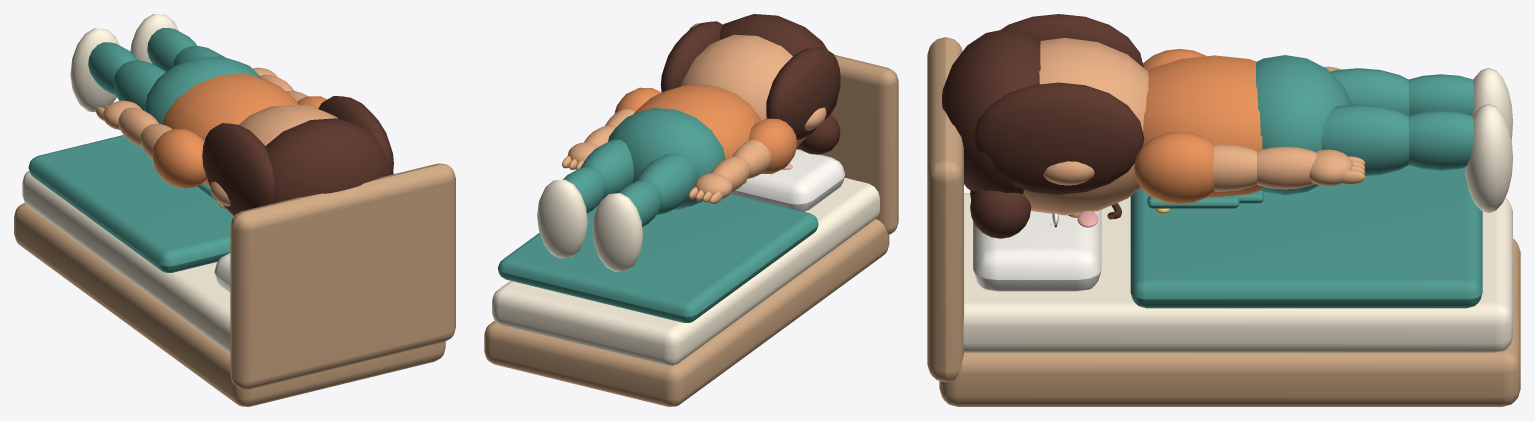
File: ava-need-tired.glb
3 views of the same model, side by side, from view 1: azimuth 30°, elevation 25°; view 2: azimuth 150°, elevation 25°; view 3: azimuth 270°, elevation 25° (orthographic). The views are drawn at different scales.
Visible parts, largest first — view 1: headboard, quilt, bed base, soft mattress, hair cap, soft shirt, bob hair, overalls, shirt sleeve, little shoe, clay head, trouser leg (+9 smaller); view 2: quilt, bed base, soft mattress, headboard, clay head, overalls, bob hair, soft shirt, pillow, little shoe, little shoe.001, hair cap (+13 smaller); view 3: quilt, soft mattress, bed base, bob hair.001, headboard, soft shirt, pillow, hair cap, clay head, overalls, shirt sleeve.001, trouser leg.001 (+13 smaller).
Boxes of the visible parts, x1,y1,x2,y2 form: headboard: (230,163,455,389); quilt: (28,135,233,272); bed base: (14,202,445,406); soft mattress: (22,170,230,353); hair cap: (258,118,393,207); soft shirt: (162,73,298,185); bob hair: (202,123,274,215); overalls: (144,56,261,124); shirt sleeve: (152,129,206,188); little shoe: (70,28,119,112); clay head: (239,104,337,145); trouser leg: (113,60,165,110); quilt: (497,194,818,322); bed base: (484,219,889,406); soft mattress: (492,177,879,365); headboard: (690,23,898,234); clay head: (681,34,806,147); overalls: (608,108,725,209); bob hair: (766,47,840,139); soft shirt: (633,84,761,158); pillow: (730,149,844,211); little shoe: (592,193,643,271); little shoe.001: (537,179,587,258); hair cap: (719,14,840,119); quilt: (1130,165,1482,308); soft mattress: (963,193,1512,352); bed base: (939,239,1520,406); bob hair.001: (974,82,1144,194); headboard: (927,37,963,382); soft shirt: (1142,55,1262,197); pillow: (973,209,1101,291); hair cap: (941,28,1040,193); clay head: (1023,38,1148,215); overalls: (1256,55,1352,195); shirt sleeve.001: (1134,131,1214,204); trouser leg.001: (1321,104,1409,176).
Size of the model in its own units: 1.05 by 1.12 by 1.94.
